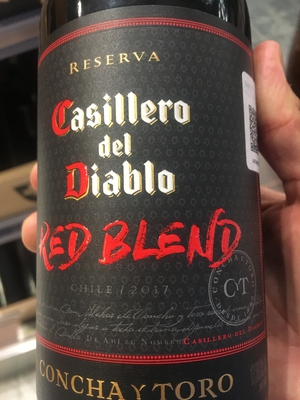casillero del diablo red blend: (33, 15, 273, 400)
